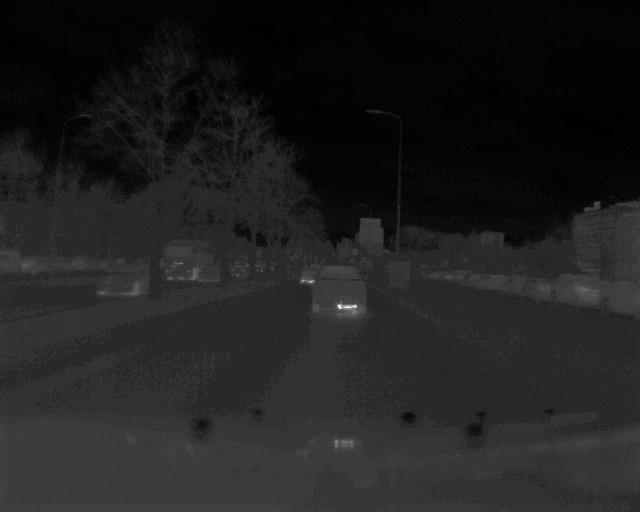car: (309, 260, 368, 315), (95, 255, 155, 299), (160, 239, 214, 284)
